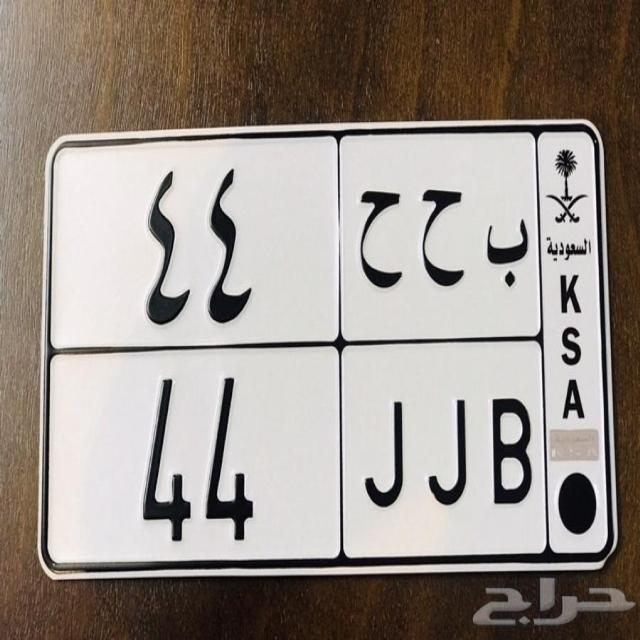license_plate: (40, 344, 549, 566)
